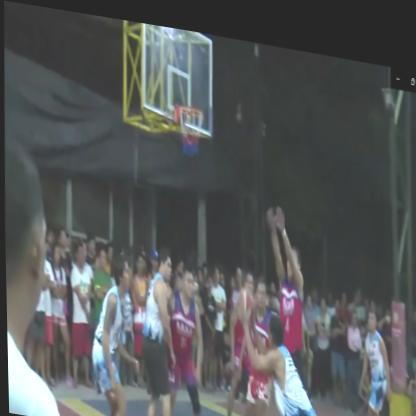rim: (174, 91, 205, 158)
